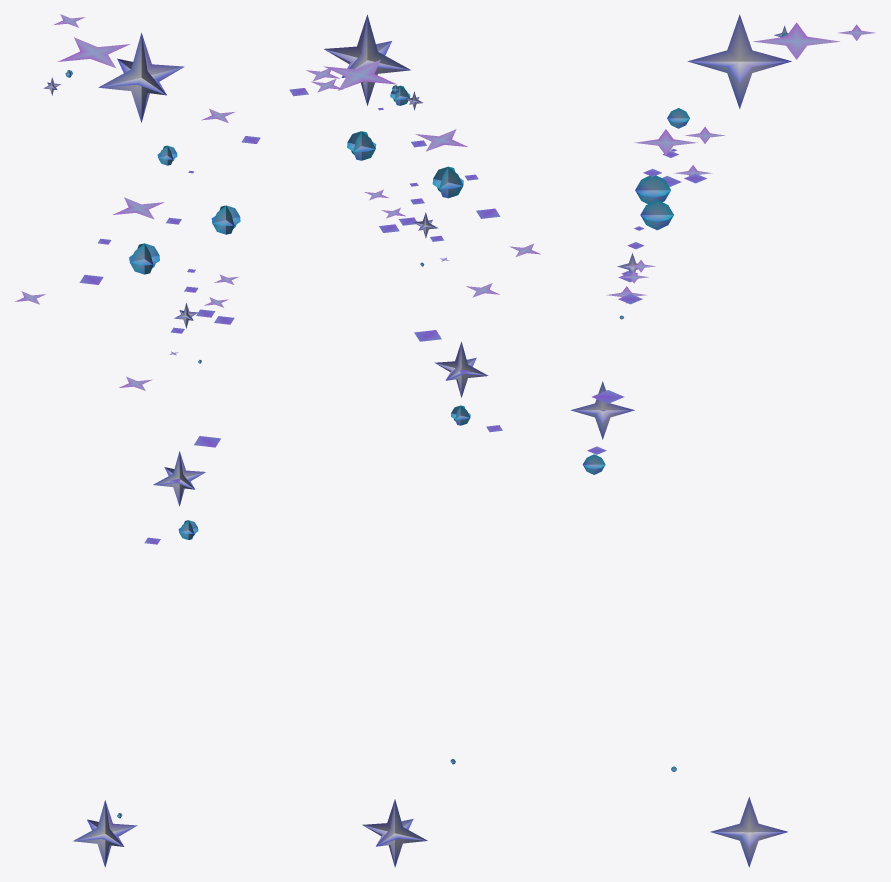
The model's file is space-stars-star-cluster_v15.fbx.
3 views of the same model, side by side, from view 1: azimuth 30°, elevation 25°; view 2: azimuth 150°, elevation 25°; view 3: azimuth 270°, elevation 25° (orthographic). The views are drawn at different scales.
Visible parts, largest first — view 1: Star Cluster_v15; view 2: Star Cluster_v15; view 3: Star Cluster_v15.
Boxes of the visible parts, x1,y1,x2,y2 form: Star Cluster_v15: (15,14,260,867); Star Cluster_v15: (289,14,540,867); Star Cluster_v15: (571,14,875,867).
Size of the model in its own units: 0.1561 by 0.5 by 0.1596.
